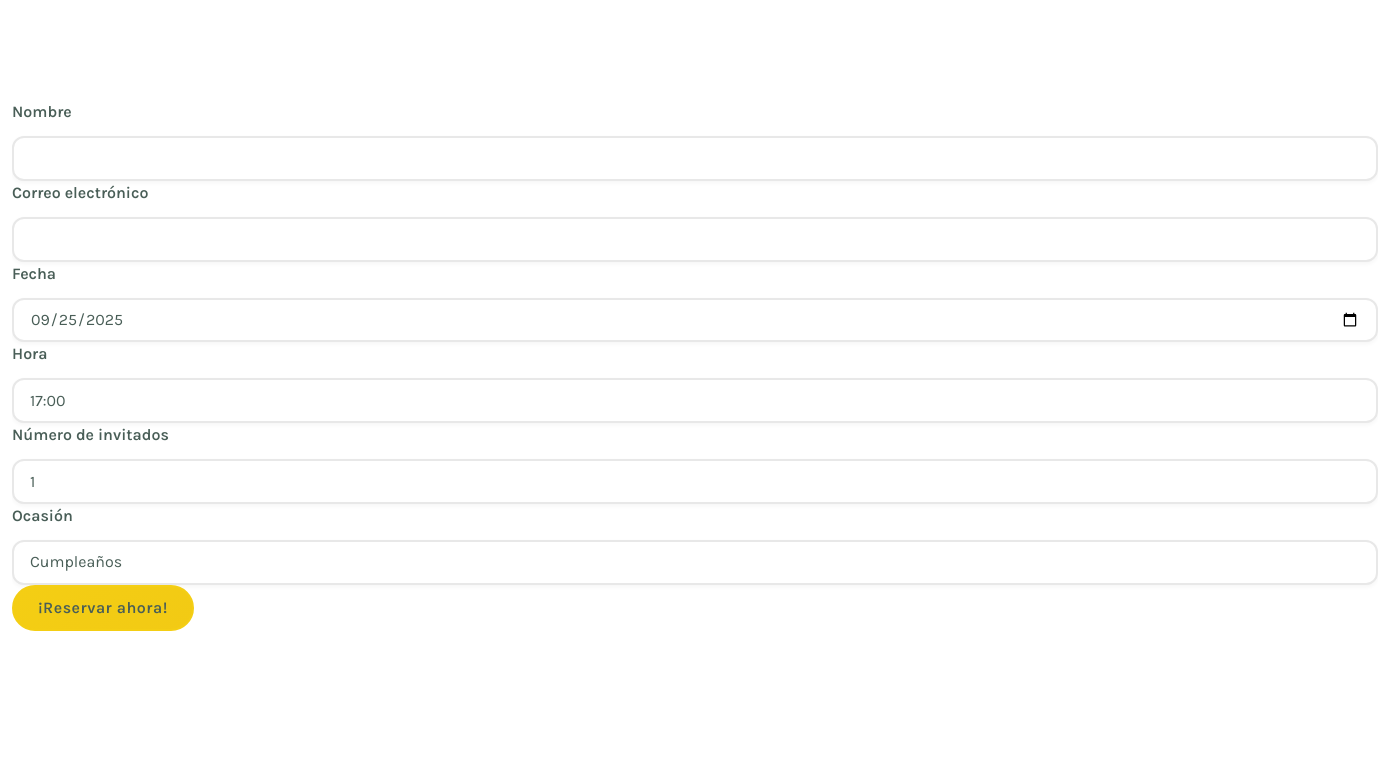
Scenario: Reservation form › should display an error message when date field's value is empty
Step 1. Clear the date field labelled "Fecha" → (695, 320), box [12,298,1378,342]
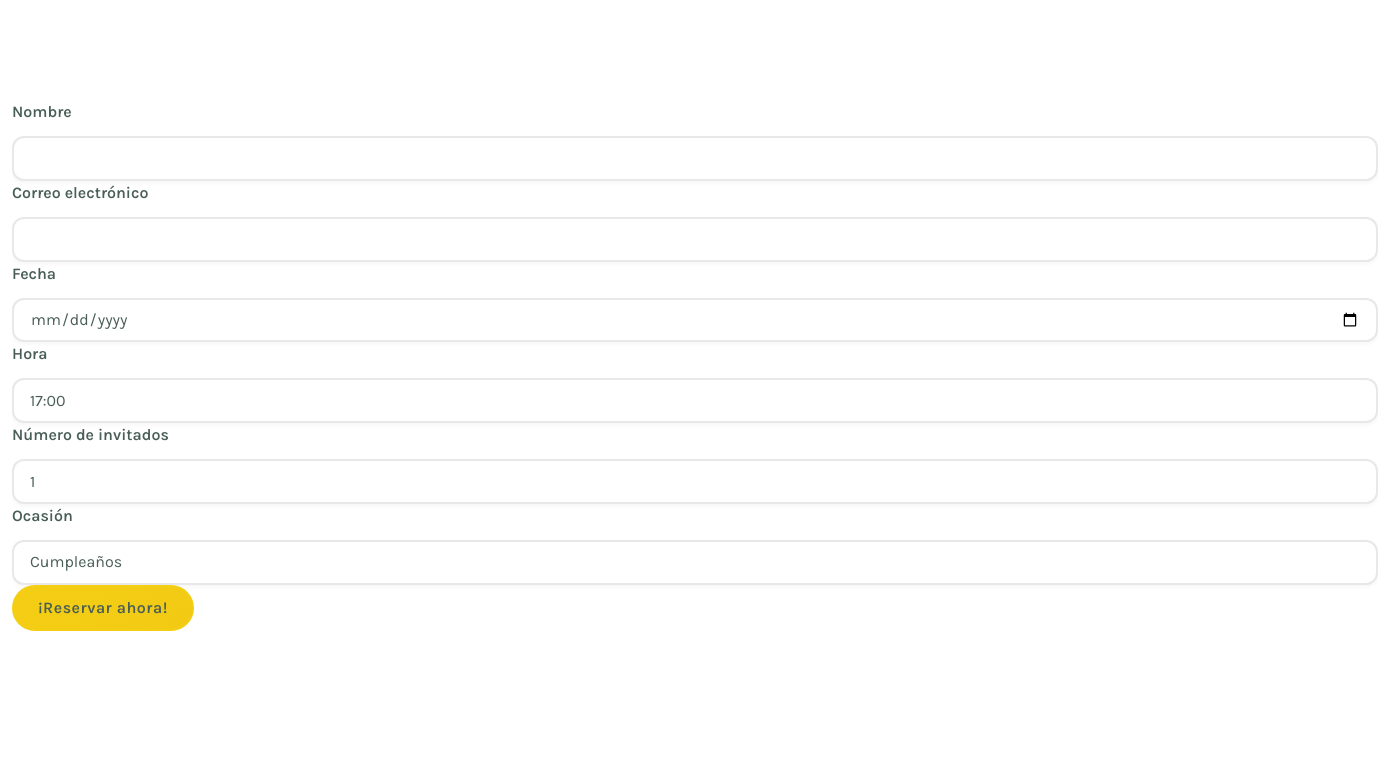
Step 2. Leave the date field labelled "Fecha", box [12,298,1378,342]
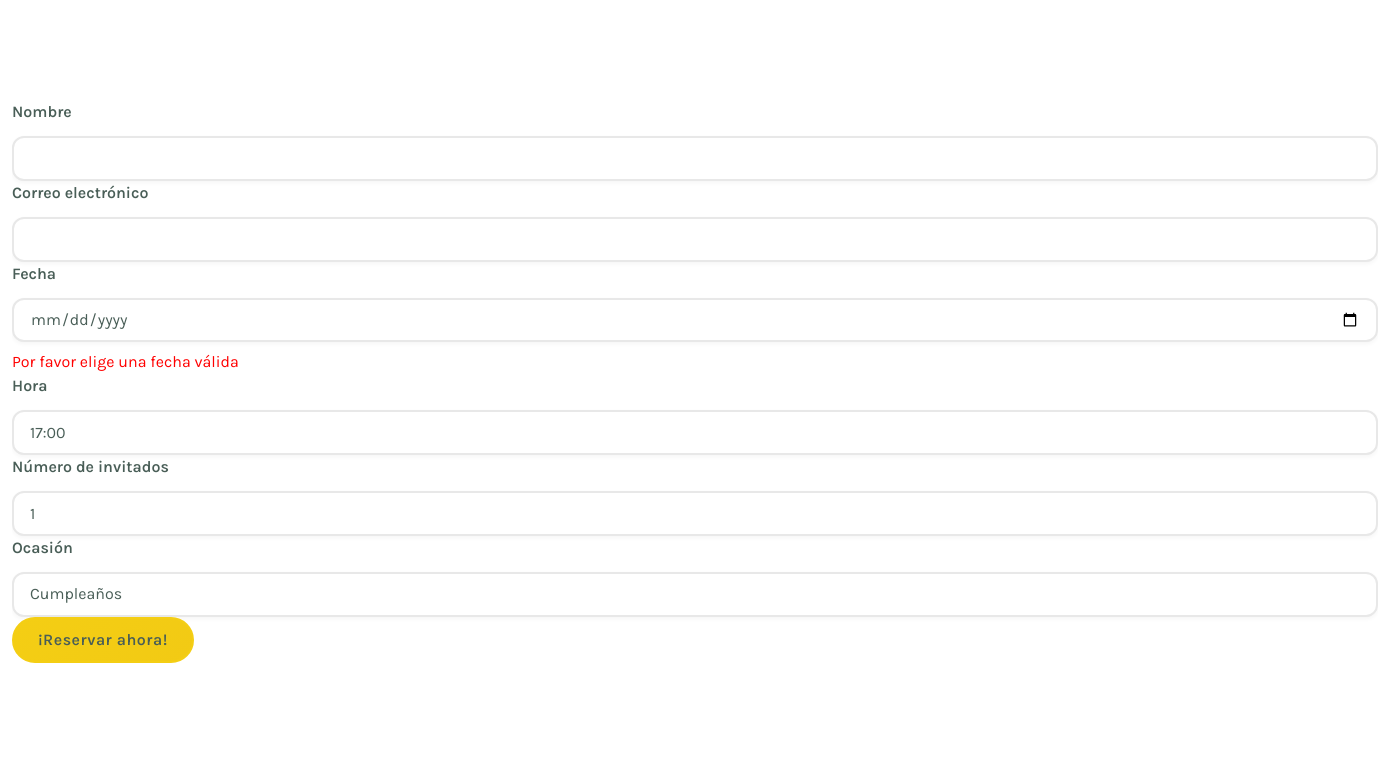
Expected: the text with test id "error-message" reads "Por favor elige una fecha válida", [12,352,239,371]
